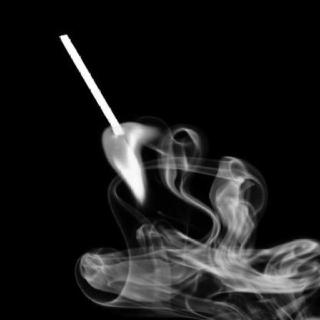Fire: (86, 111, 173, 211)
